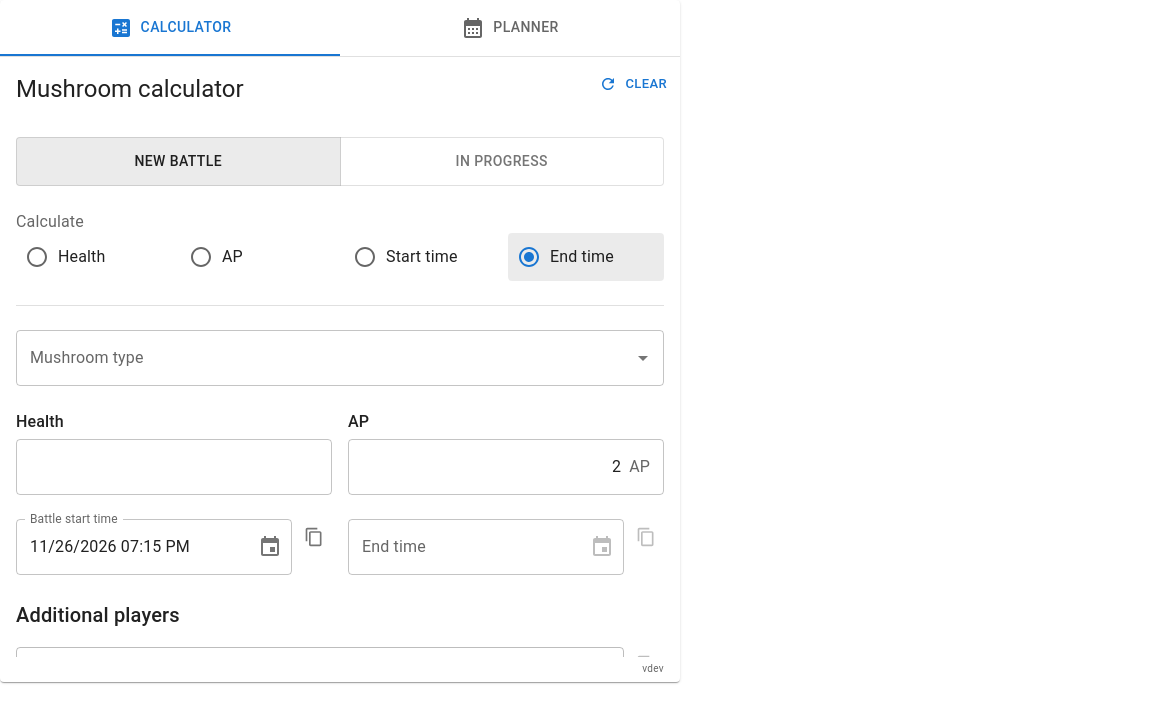
Test: cancels a start plan without changing records and restores the editor draft
The image size is (1152, 720).
Step 1. Click the tab "Planner" → (510, 28), box x1=340 y1=0 x2=680 y2=56
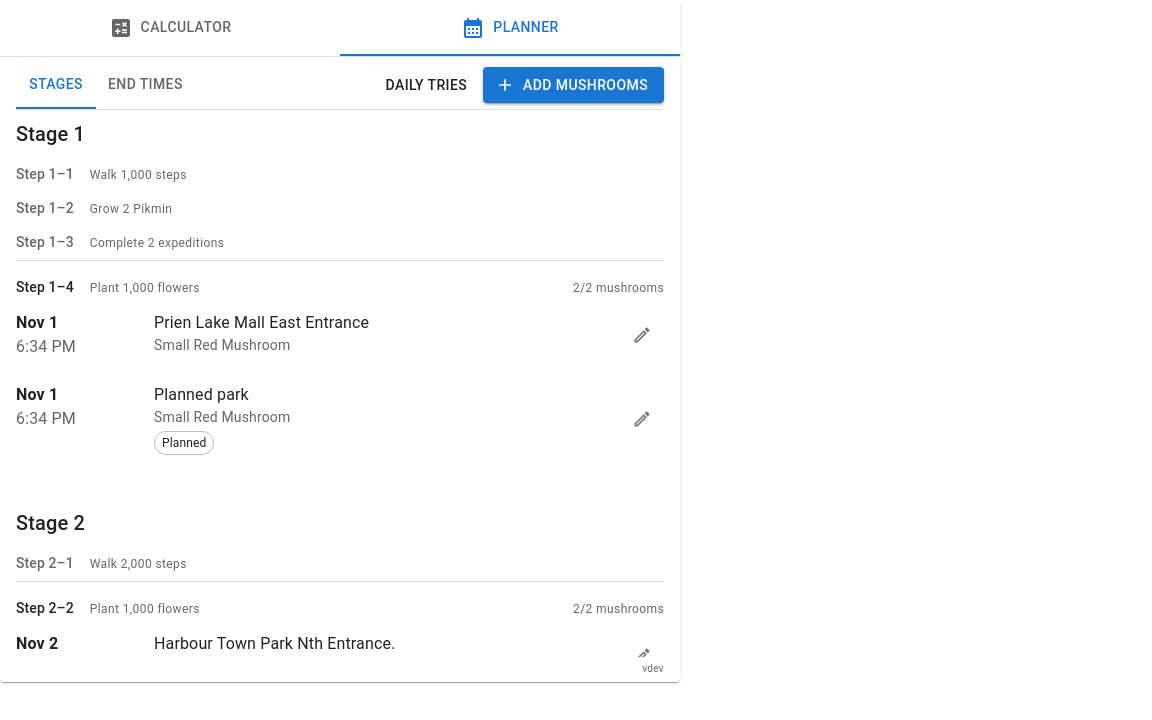
Step 2. Click the button named "Edit Planned park" → (642, 419), box x1=620 y1=397 x2=664 y2=441
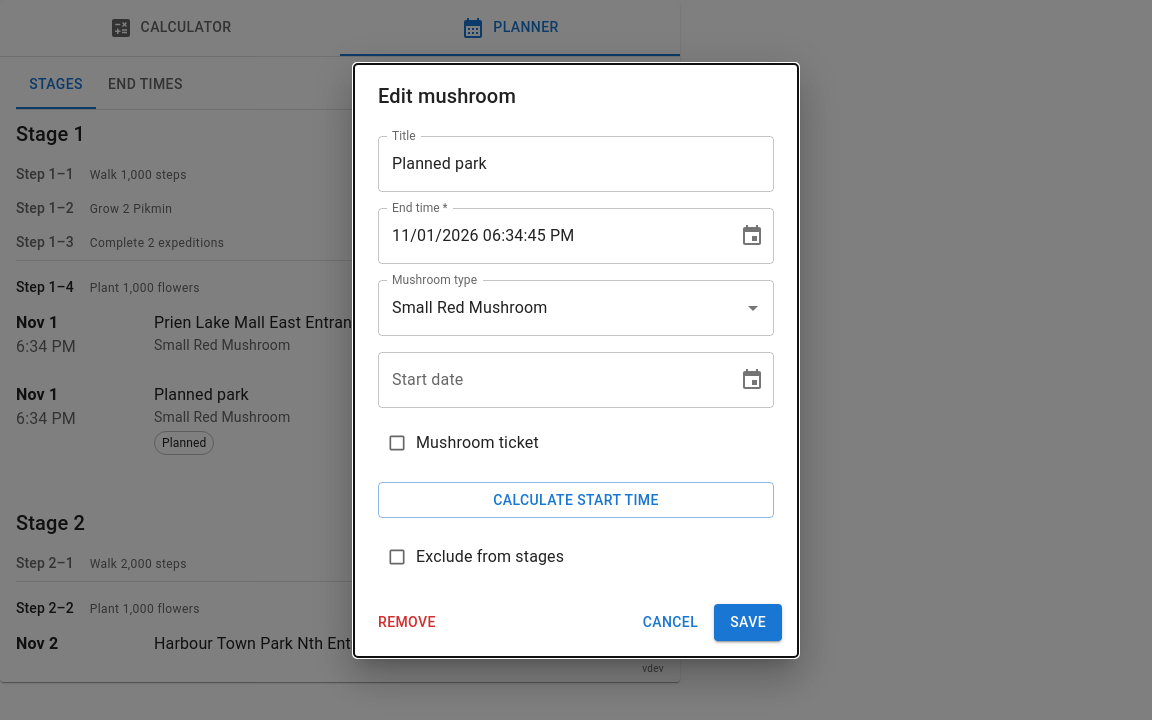
Step 3. Replace the text in the field labelled "Title" with "Unsaved place" → (576, 164), box x1=378 y1=136 x2=774 y2=192
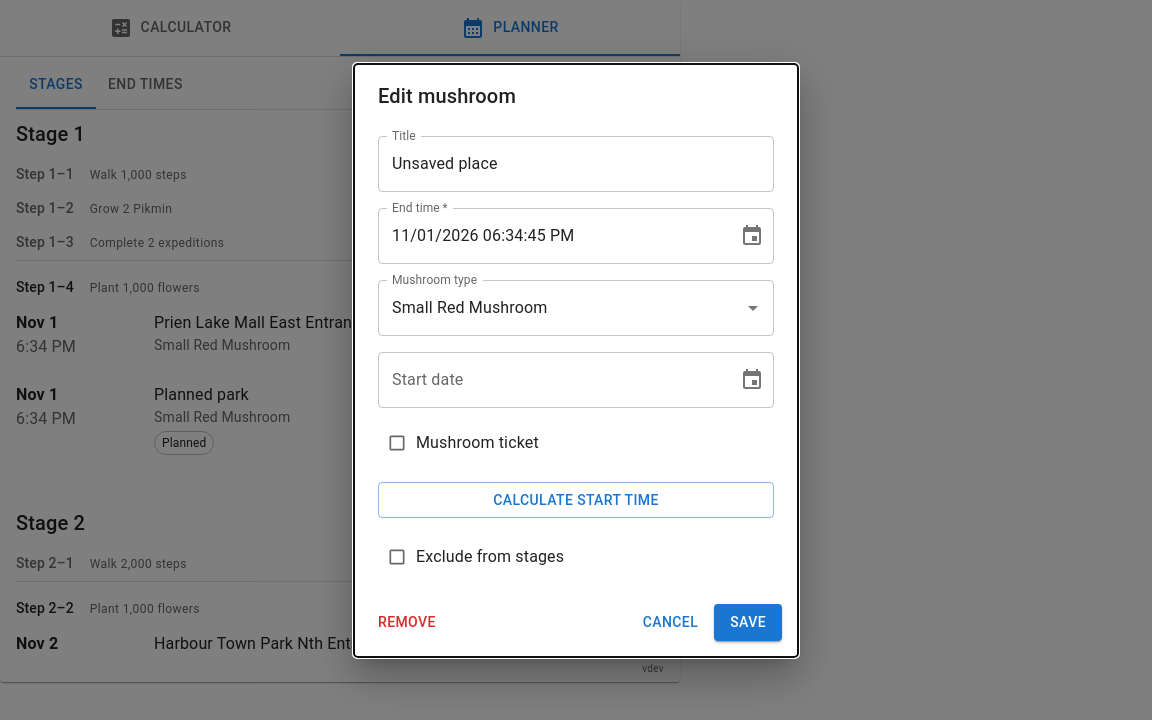
Step 4. Click the button "Calculate start time" → (576, 500), box x1=378 y1=482 x2=774 y2=518
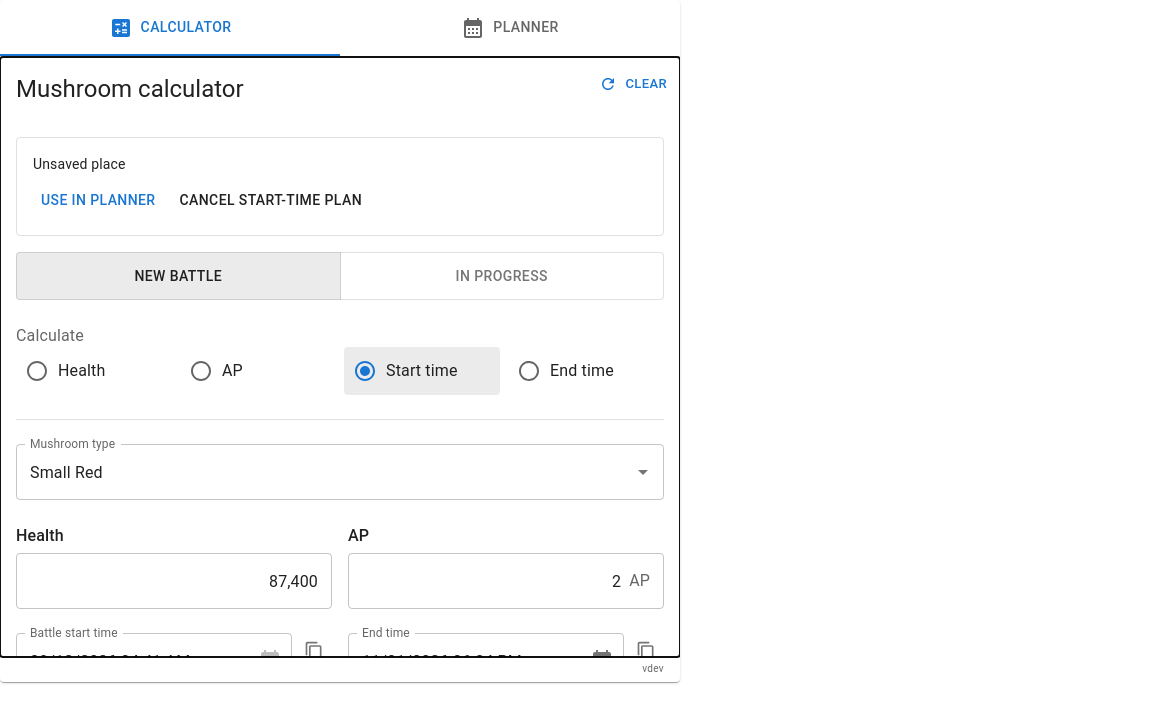
Step 5. Click the button "Cancel start-time plan" → (271, 200), box x1=172 y1=182 x2=370 y2=218
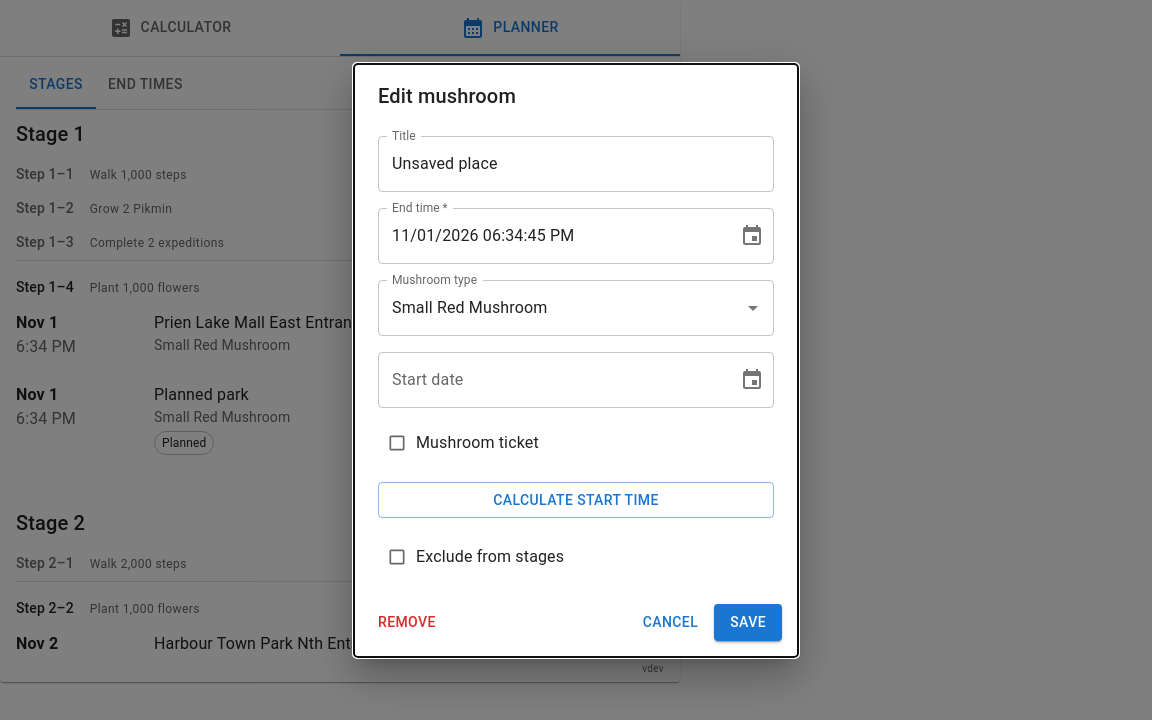
Expected: the field labelled "Title" holds "Unsaved place", x1=378 y1=136 x2=774 y2=192
